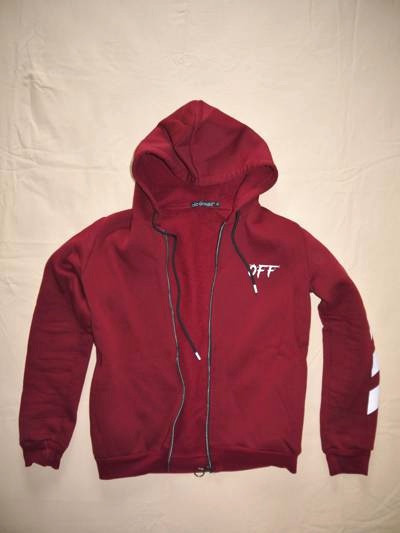Hoodie: (17, 91, 381, 497)
